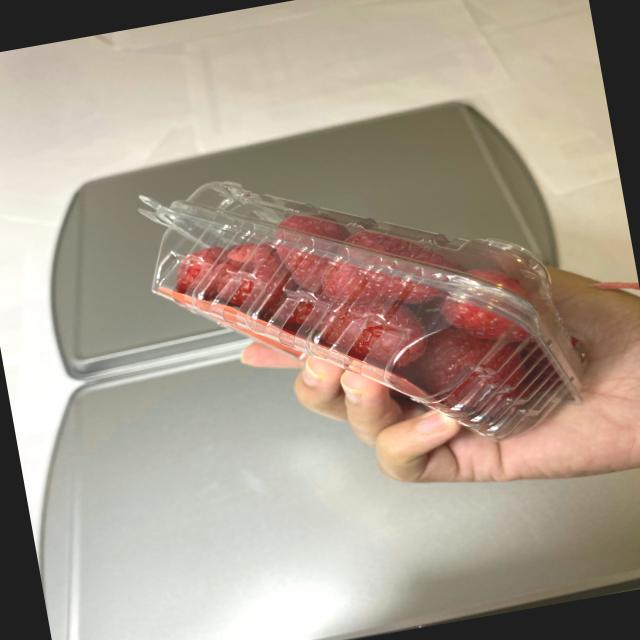raspberries: (155, 160, 562, 462)
